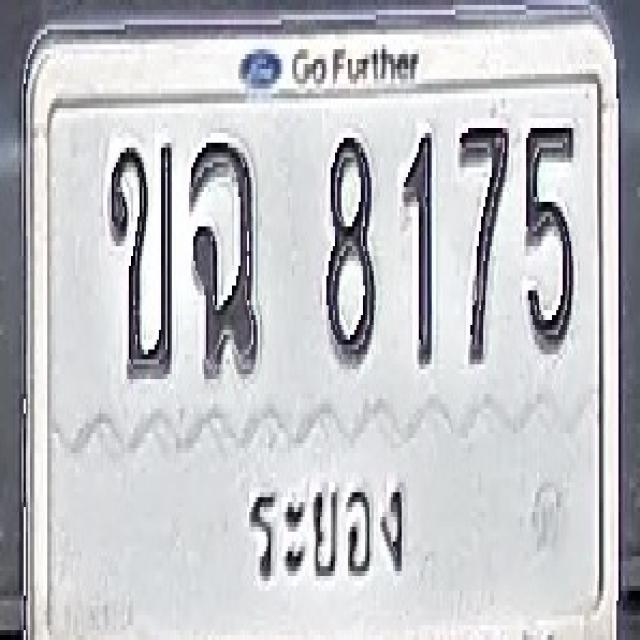1: (400, 126, 432, 367)
5: (524, 123, 573, 355)
7: (457, 120, 509, 362)
8: (325, 133, 375, 364)
A02: (108, 138, 173, 379)
A09: (188, 138, 259, 379)
RYG: (237, 464, 417, 600)
